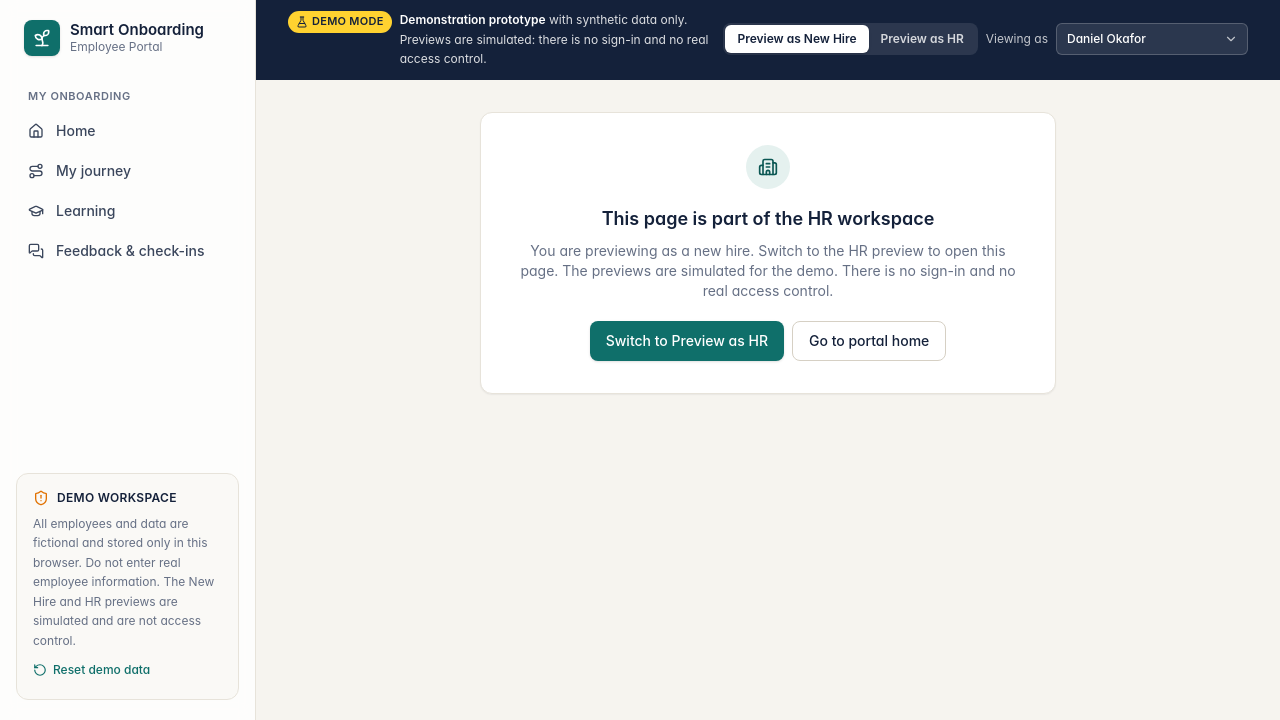
Demo Mode switch › shows a notice instead of HR pages in the New Hire preview
Expected: the heading "This page is part of the HR workspace" is shown, [602,208,934,228]
Expected: the text "HR insights content" is not shown
Click the button "Switch to Preview as HR".
click(687, 340)  # box [590,320,784,360]
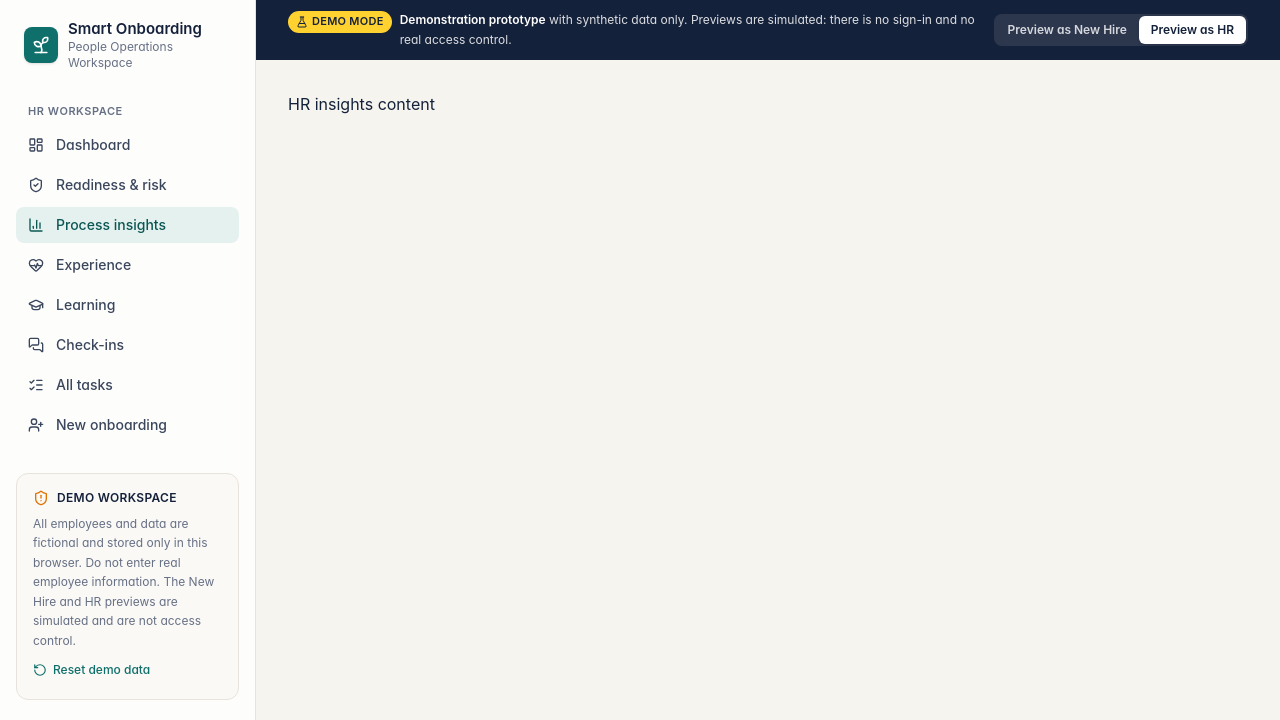
Result: the text "HR insights content" is shown at [288,94,435,114]
